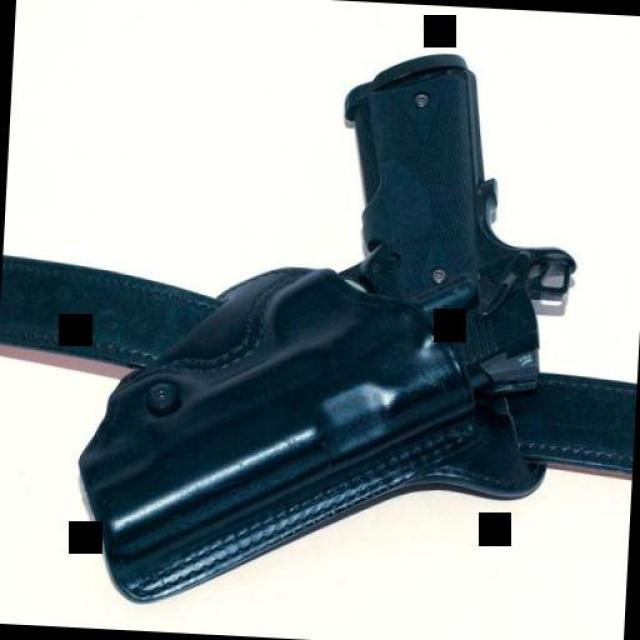gun: (46, 29, 588, 610)
